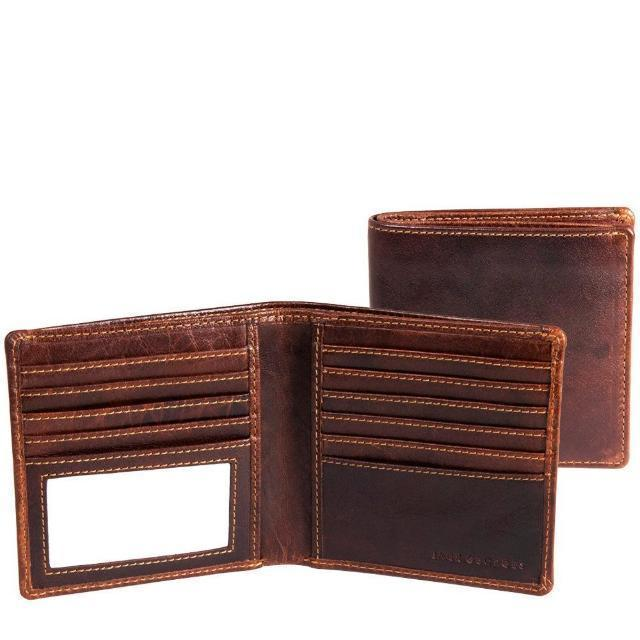wallet: (2, 296, 564, 600), (366, 205, 634, 480)
